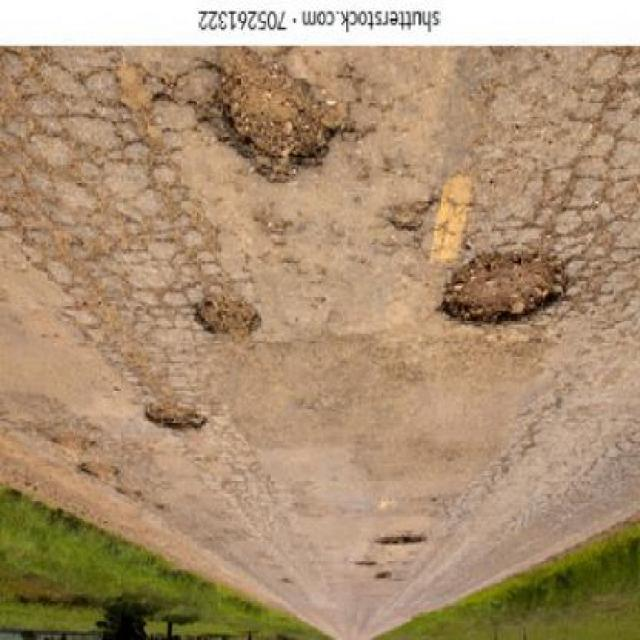Pothole: (194, 49, 345, 181), (441, 251, 568, 322), (195, 286, 260, 337), (145, 401, 208, 429), (375, 532, 428, 545)
